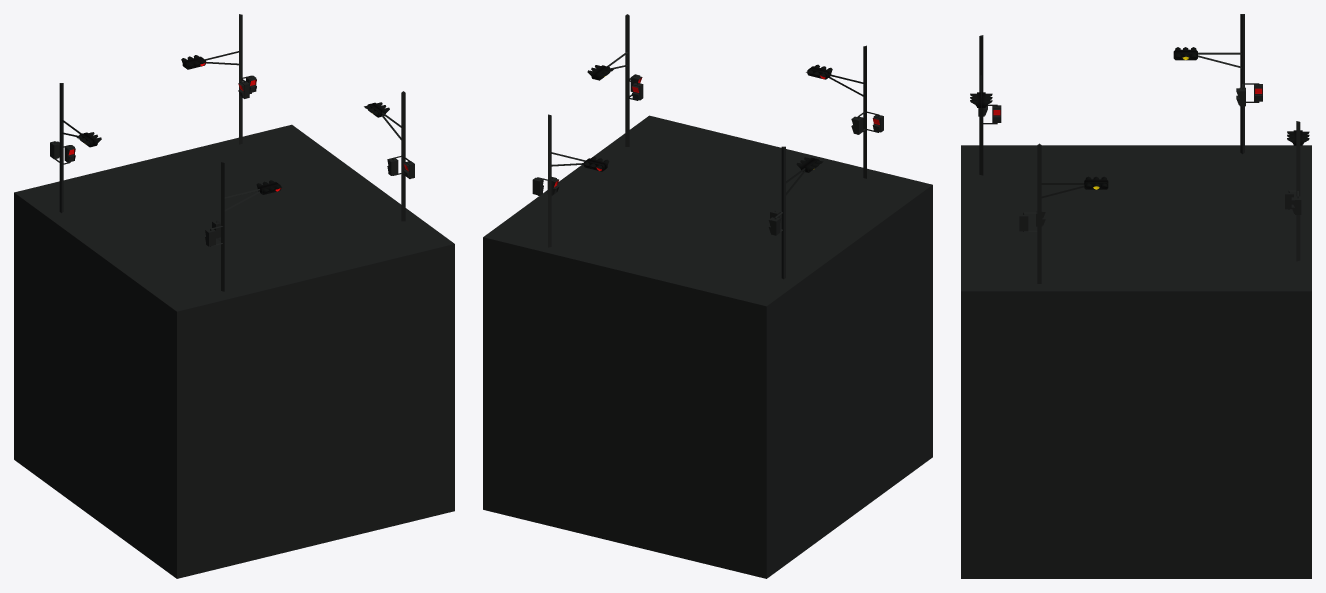
Rendered from AMB_SIGNAL.glb.
3 views of the same model, side by side, from view 1: azimuth 30°, elevation 25°; view 2: azimuth 150°, elevation 25°; view 3: azimuth 270°, elevation 25° (orthographic). The views are drawn at different scales.
Parts seen in each view (by area): view 1: signal; view 2: signal; view 3: signal.
Part boxes in pixels (<box>): signal: <box>14,14,454,578</box>; signal: <box>483,14,932,578</box>; signal: <box>961,14,1311,578</box>.
Size of the model in its own units: 109 by 148 by 111.
4 materials, 4 textured.
